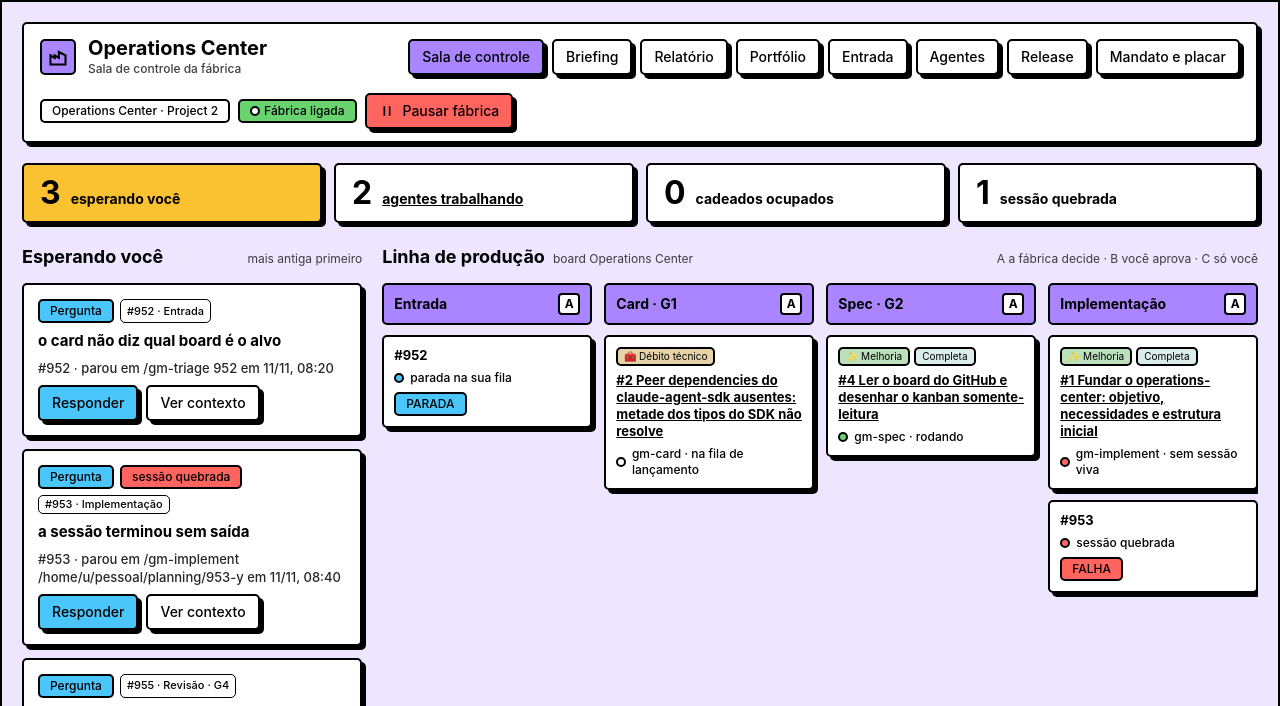
Scenario: Agentes · sessões da fábrica › a sessão quebrada tem o seu texto e a que não está viva diz que o despachante recolhe
What coordinates should you click on to do the following:
click the button with test id "fabrica-nav-agentes"
I would click on:
 (957, 56)
Its box is x1=916 y1=38 x2=999 y2=74.
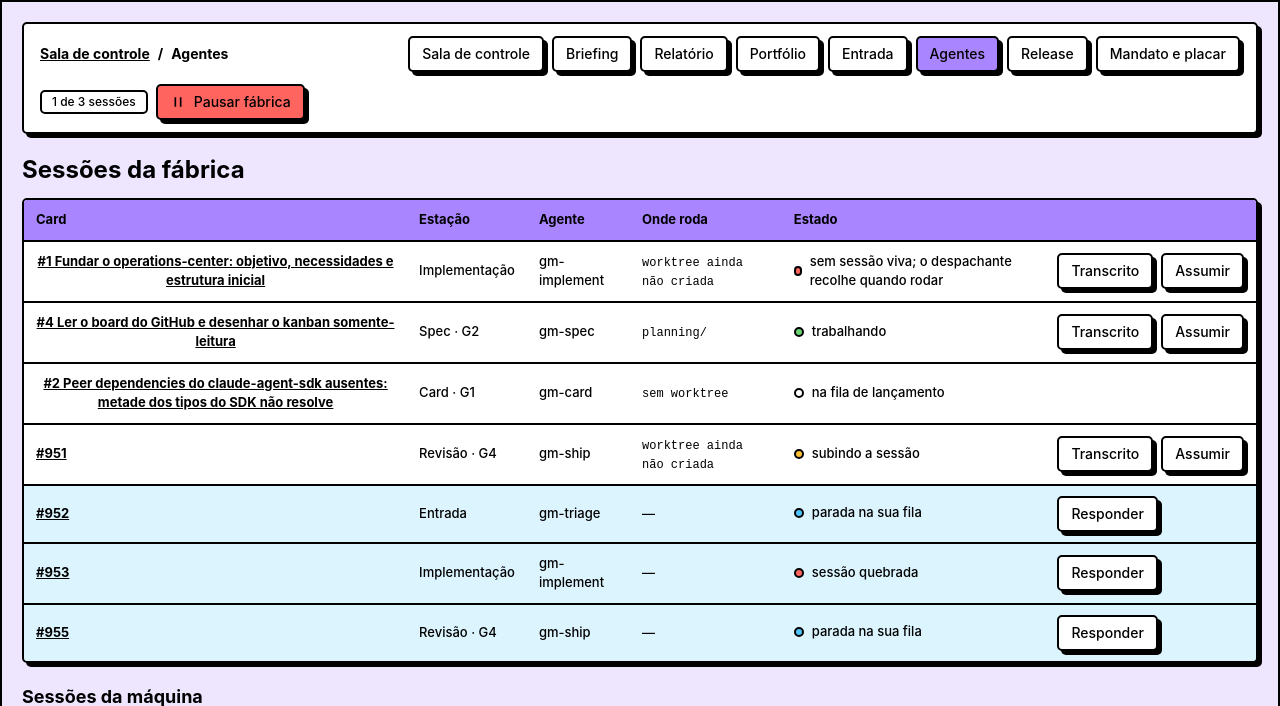
Expected: the text "Peer dependencies" is shown, x1=36 y1=374 x2=395 y2=412
Expected: the element showing "sem sessão viva; o despachante recolhe quando rodar" is shown, x1=794 y1=252 x2=1034 y2=290
